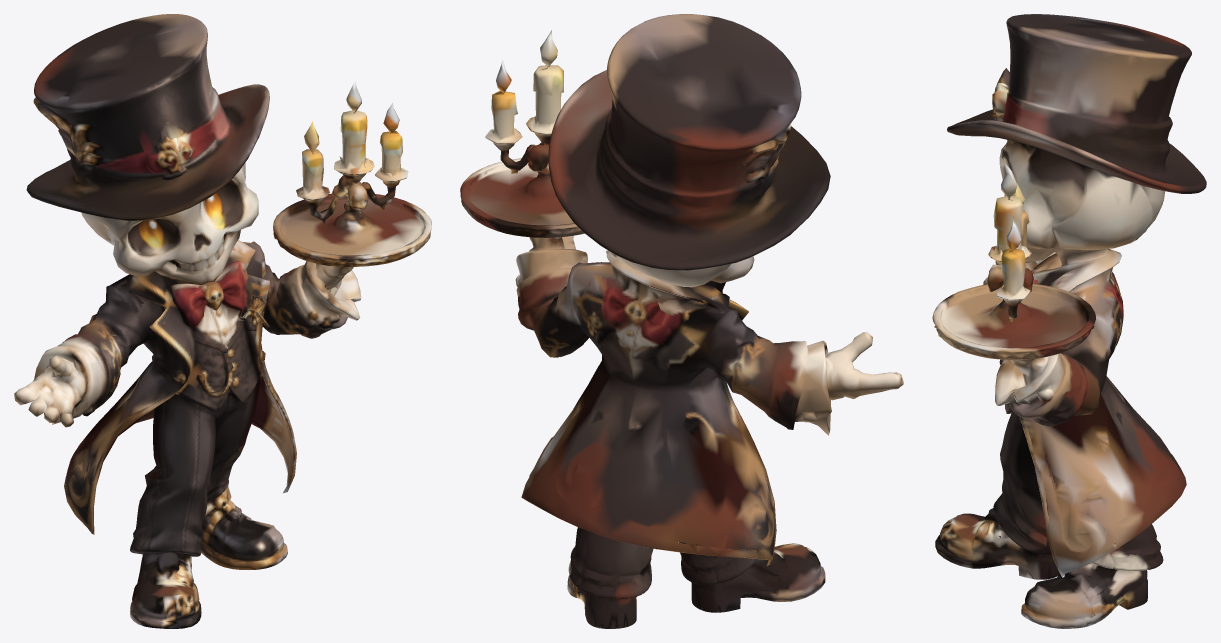
File: original.glb
3 renders of one model, left to right at view 1: azimuth 30°, elevation 25°; view 2: azimuth 150°, elevation 25°; view 3: azimuth 270°, elevation 25°, orthographic. The views are drawn at different scales.
Parts seen in each view (by area): view 1: Body; view 2: Body; view 3: Body.
Boxes of the visible parts, bbox=[...] form: Body: bbox=[14, 14, 431, 628]; Body: bbox=[460, 14, 903, 628]; Body: bbox=[932, 14, 1206, 628].
Bounding box in the file's own units: 0.7838 × 0.9998 × 0.4479.
Materials: 1 (1 with a texture image).
